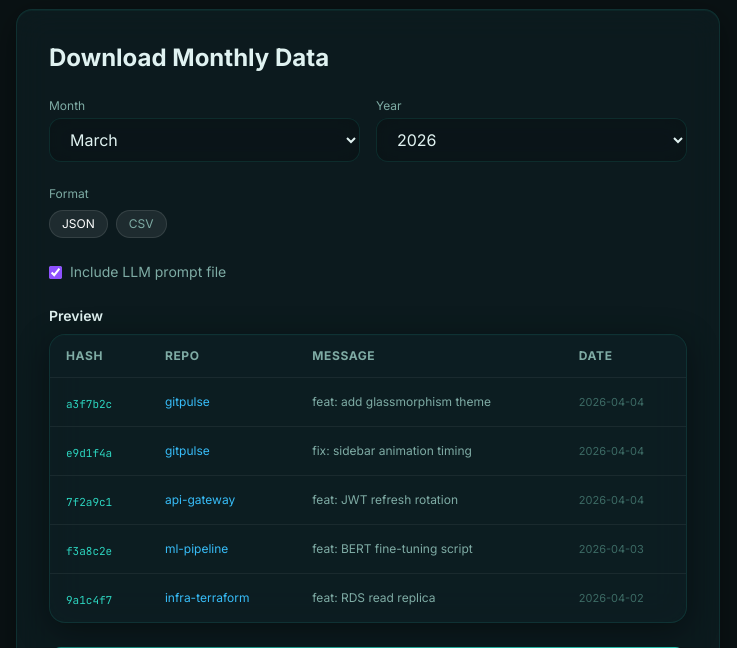
renders and changes download button text
The width and height of the screenshot is (737, 648).
Step 1. Select "April" in the 1st dropdown showing "March" → (204, 140), box [49,118,360,162]
(page scrolled)
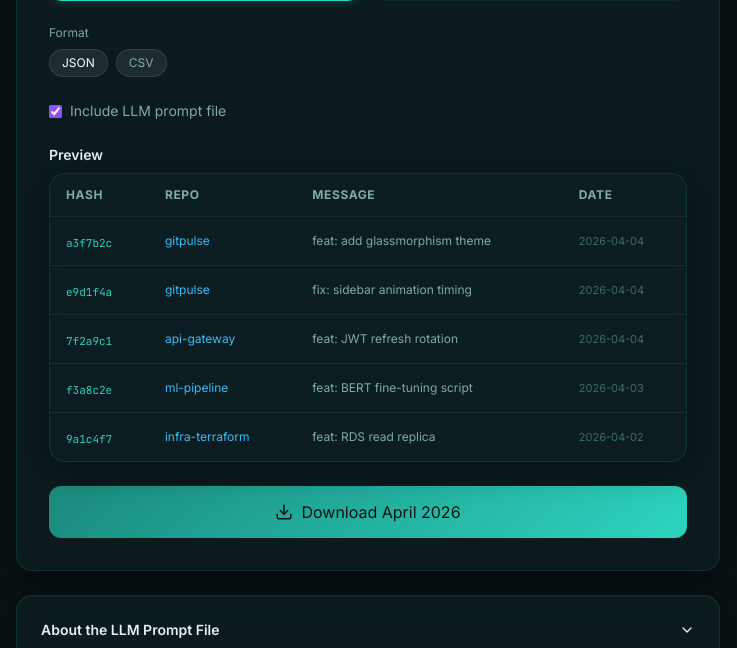
Expected: the button "Download April 2026" is shown, [49,486,687,538]
